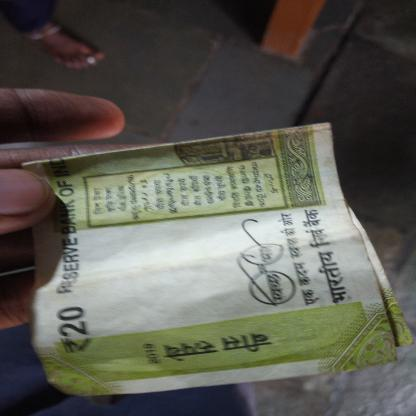New20Back: (23, 133, 375, 383)
